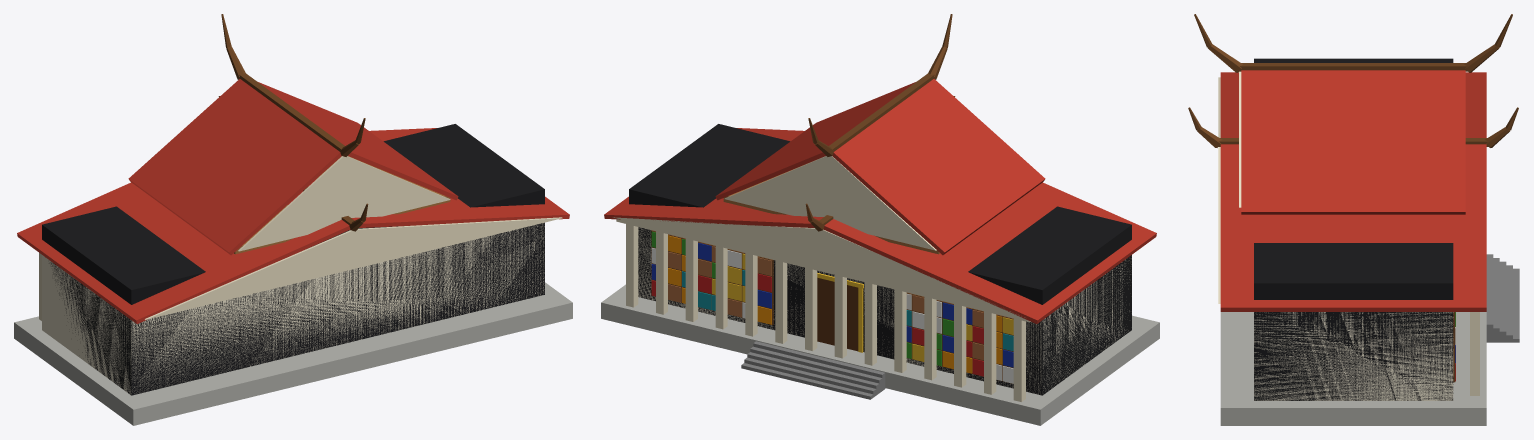
Rendered from env_lm_muzium_negara.fbx.
The picture shows the model from 3 angles, left to right: view 1: azimuth 30°, elevation 25°; view 2: azimuth 150°, elevation 25°; view 3: azimuth 270°, elevation 25°; orthographic projection. The views are drawn at different scales.
Parts seen in each view (by area): view 1: env_lm_muzium_negara_geo_LOD0, COL_env_lm_muzium_negara; view 2: env_lm_muzium_negara_geo_LOD0, COL_env_lm_muzium_negara; view 3: env_lm_muzium_negara_geo_LOD0, COL_env_lm_muzium_negara.
Part boxes in pixels (x1,y1,x2,y2): env_lm_muzium_negara_geo_LOD0: [14, 14, 572, 425]; COL_env_lm_muzium_negara: [42, 124, 544, 395]; env_lm_muzium_negara_geo_LOD0: [601, 14, 1159, 425]; COL_env_lm_muzium_negara: [629, 124, 1131, 395]; env_lm_muzium_negara_geo_LOD0: [1188, 14, 1519, 425]; COL_env_lm_muzium_negara: [1254, 58, 1453, 400].
Size of what is drawn, in the model's own units: 34 by 19.48 by 19.96.
